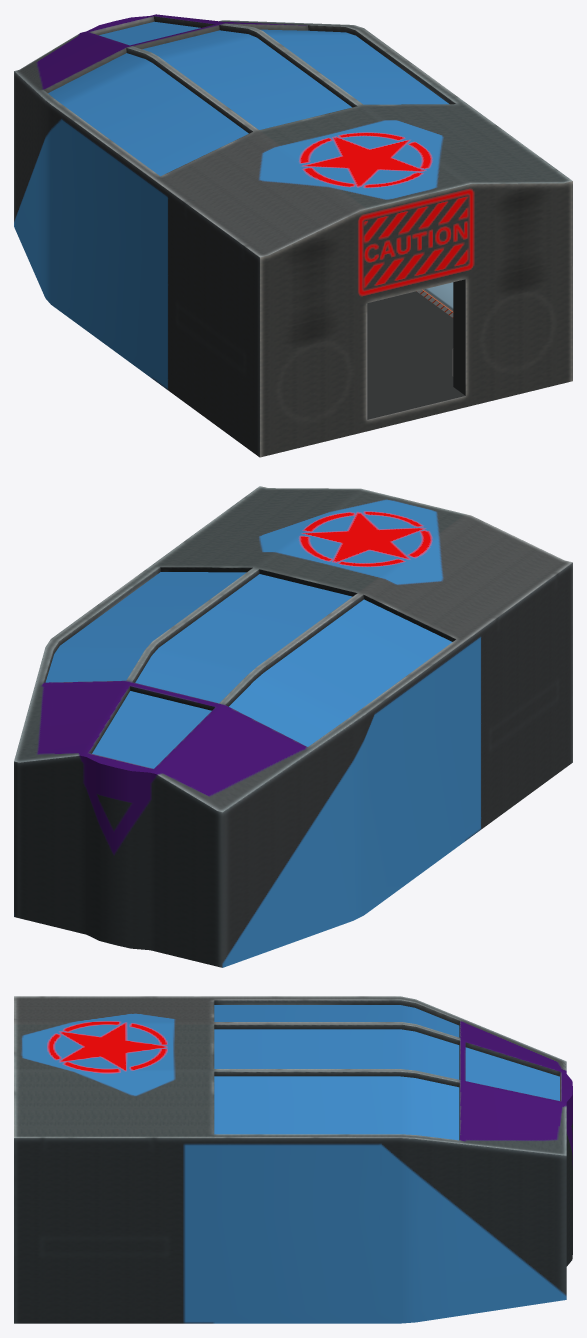
File: 자립존_우주선내부.fbx
3 views of the same model, one above another, from view 1: azimuth 30°, elevation 25°; view 2: azimuth 150°, elevation 25°; view 3: azimuth 270°, elevation 25° (orthographic). The views are drawn at different scales.
Parts seen in each view (by area): view 1: ship.001_Mesh.001, interior22_Mesh.021; view 2: ship.001_Mesh.001; view 3: ship.001_Mesh.001.
Boxes of the visible parts, left/top/right/bottom form: ship.001_Mesh.001: left=14, top=14, right=572, bottom=457; interior22_Mesh.021: left=417, top=282, right=453, bottom=317; ship.001_Mesh.001: left=14, top=486, right=572, bottom=967; ship.001_Mesh.001: left=14, top=996, right=572, bottom=1323.
Size of the model in its own units: 469 by 318 by 782.
